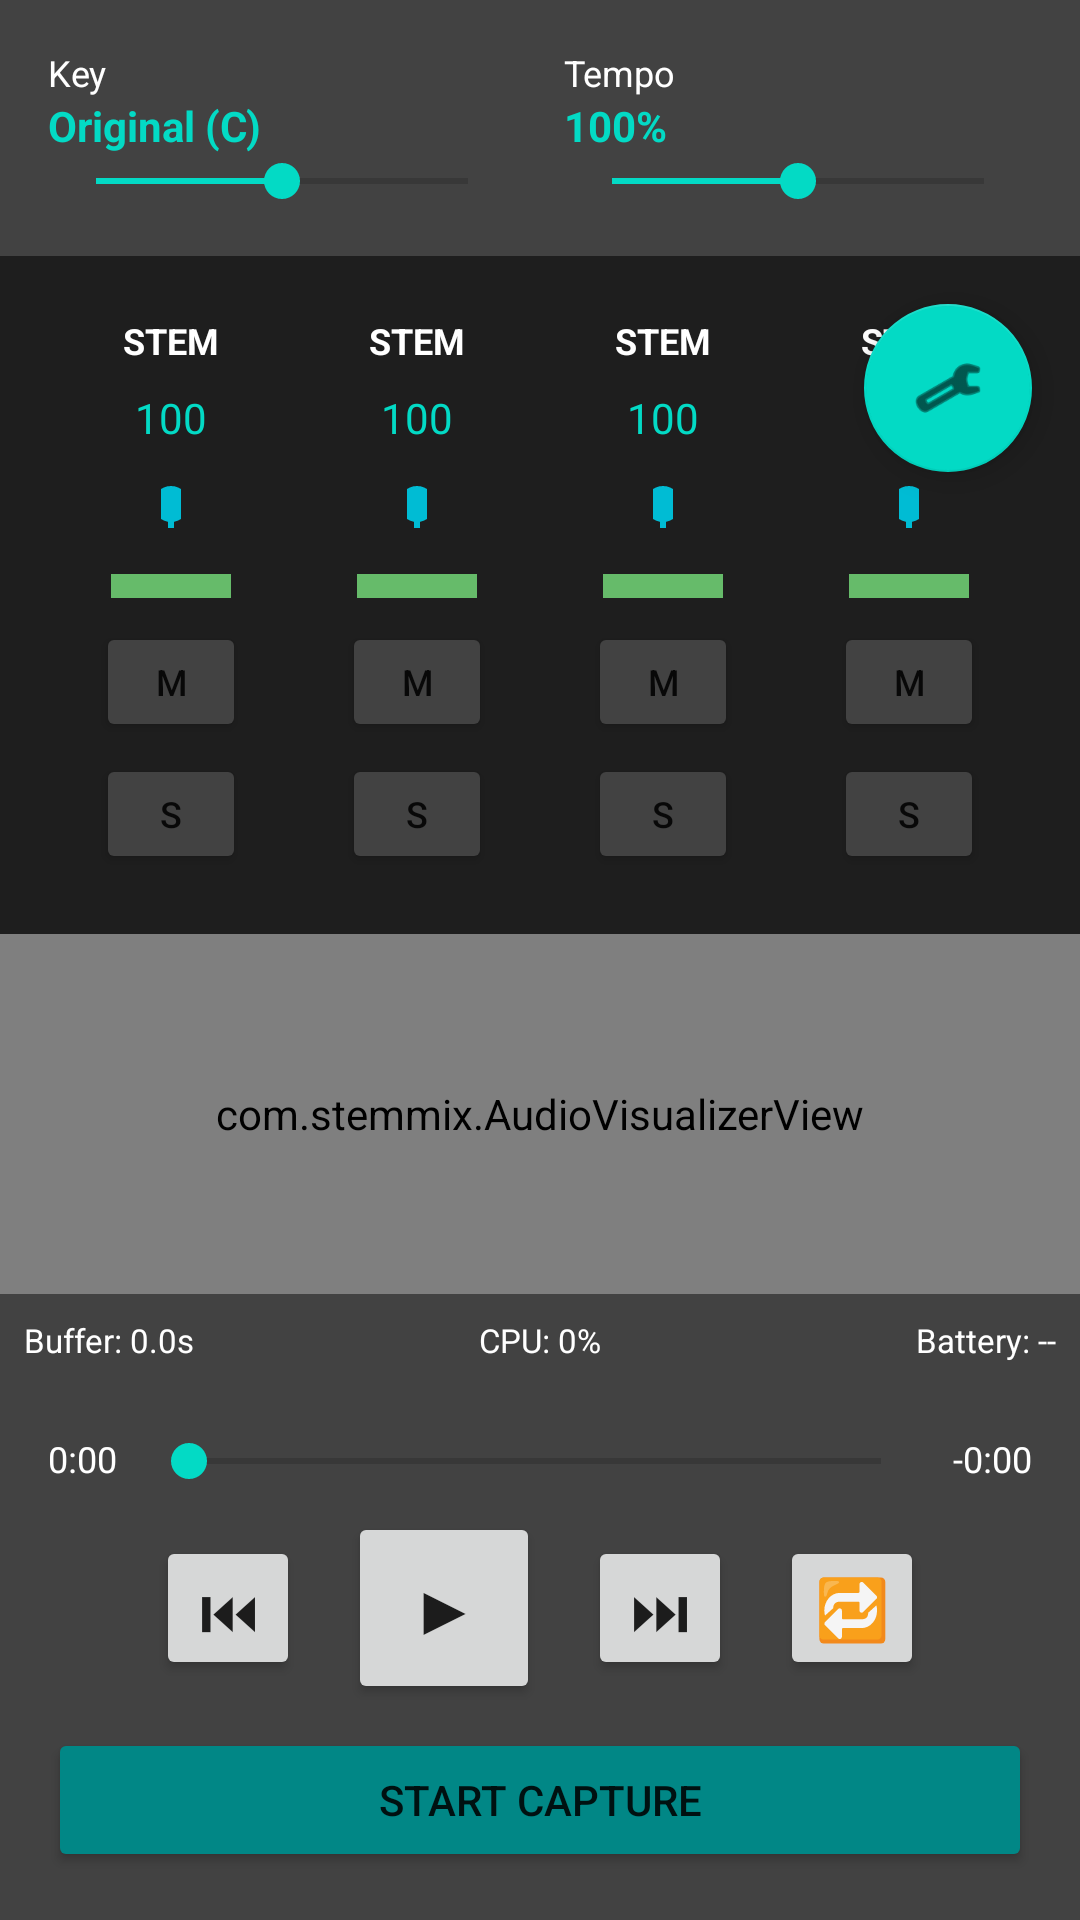

Icon bounding boxes for this 1080×1920 phone screenshot, format region(x1, y1, x2, y2):
Settings: region(864, 304, 1032, 472)
